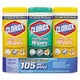Wipes: (49, 1, 79, 74), (1, 3, 29, 75), (25, 4, 53, 75)
